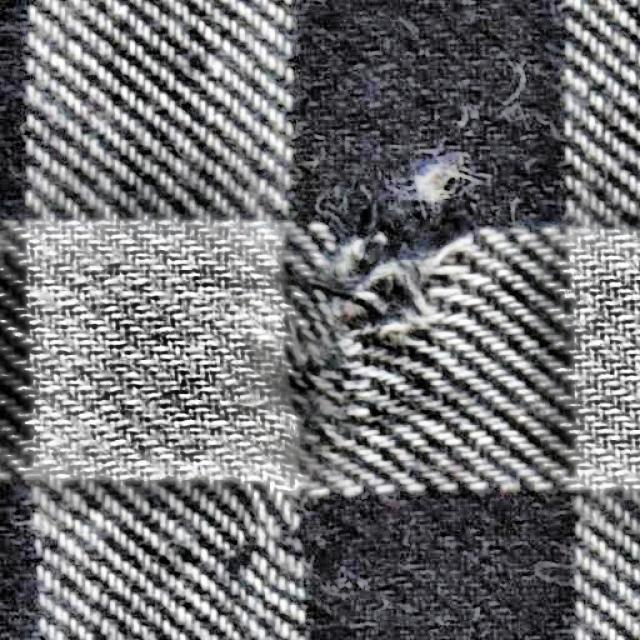cut: (254, 99, 548, 509)
